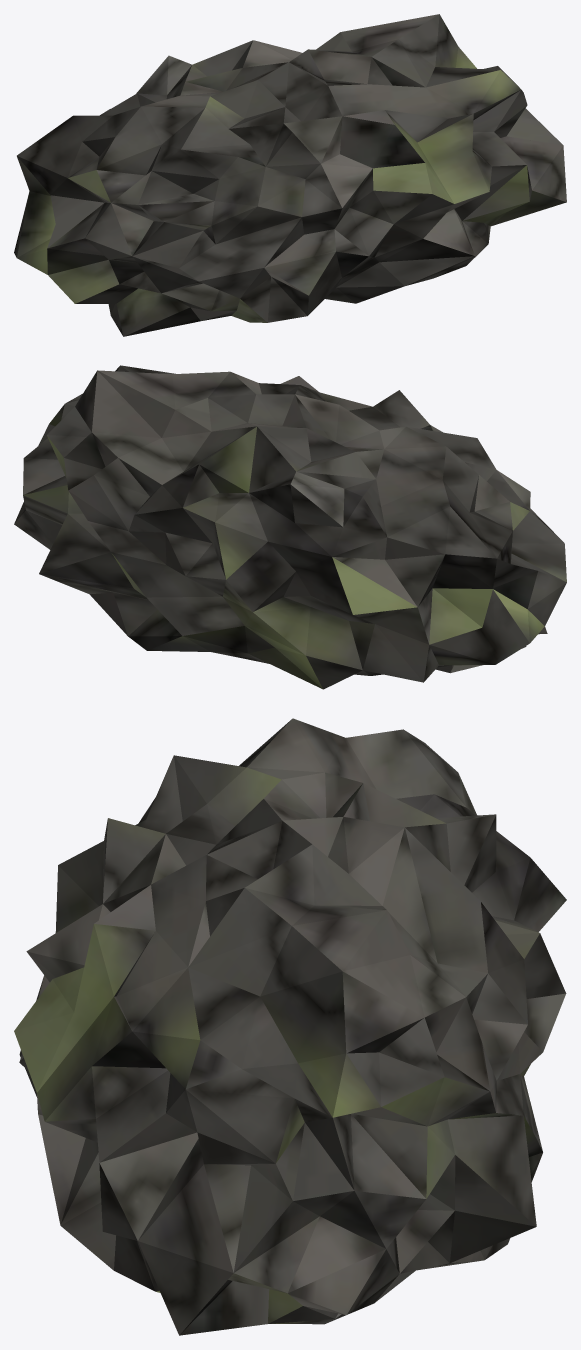
The model's file is rock2.fbx.
The picture shows the model from 3 angles, top to bottom: view 1: azimuth 30°, elevation 25°; view 2: azimuth 150°, elevation 25°; view 3: azimuth 270°, elevation 25°; orthographic projection. The views are drawn at different scales.
Visible parts, largest first — view 1: rock2; view 2: rock2; view 3: rock2.
Boxes of the visible parts, x1,y1,x2,y2 form: rock2: [14, 14, 566, 336]; rock2: [14, 365, 566, 689]; rock2: [14, 718, 566, 1335].
Size of the model in its own units: 3.64 by 1.47 by 1.99.
1 material, 1 textured.
